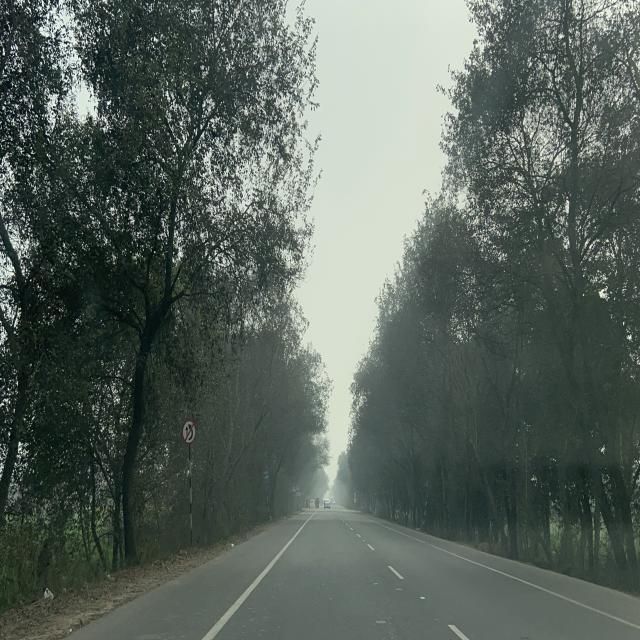OVERTAKING_PROHIBITED: (181, 418, 197, 446)
